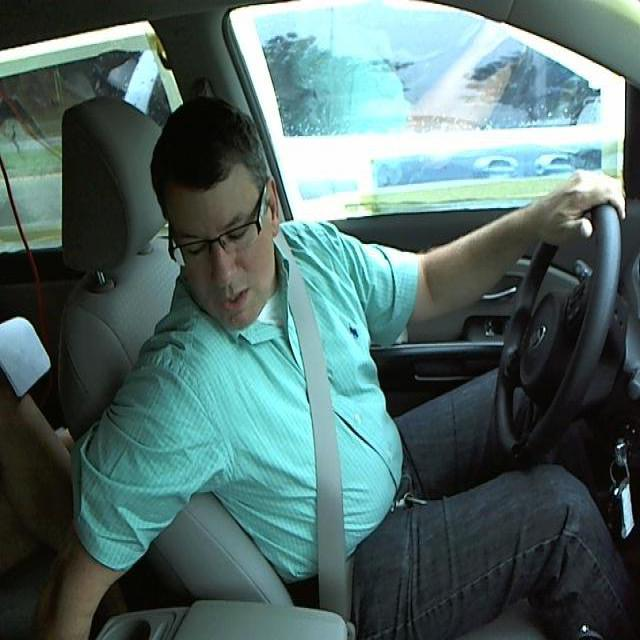seatbelt: (269, 266, 362, 614)
